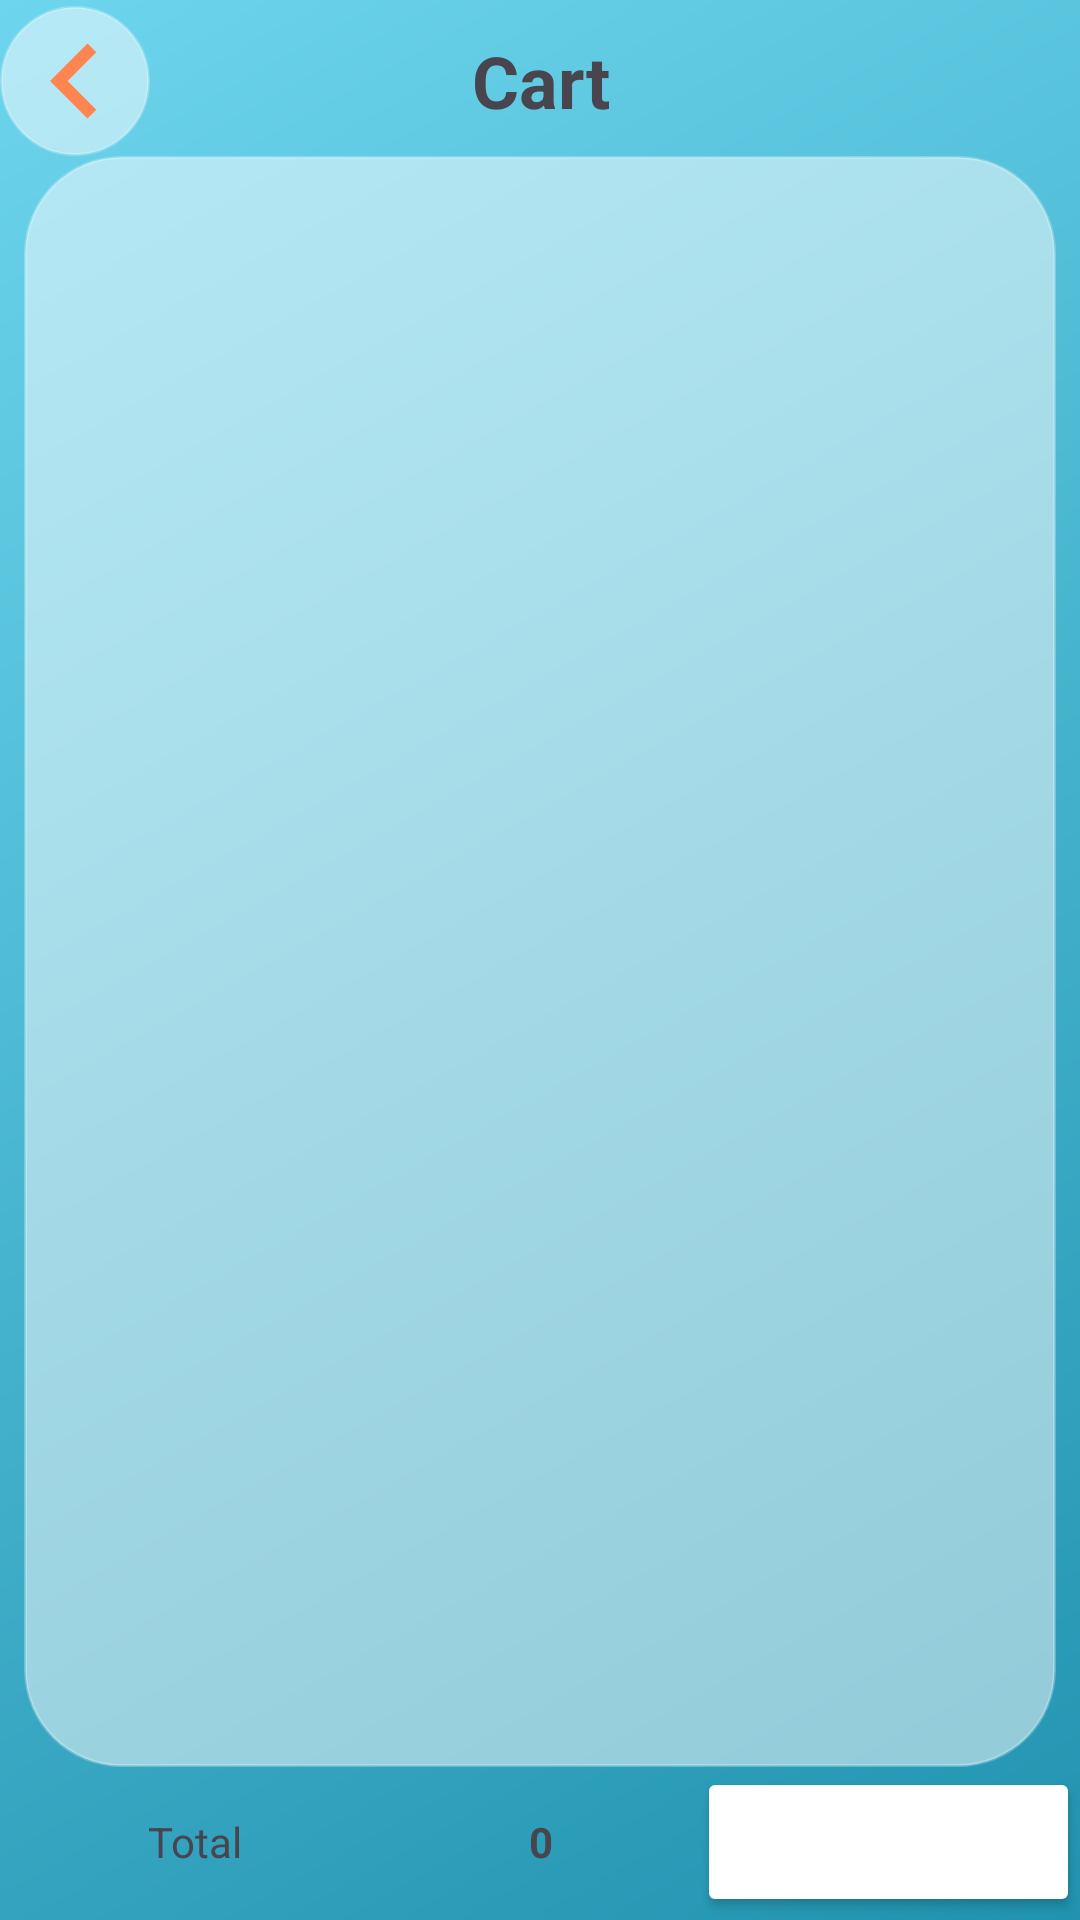

Point at icon controls on the screen. Image size 1080w x 1920h, points as [x,y].
keyboard arrow left: [75,81]
